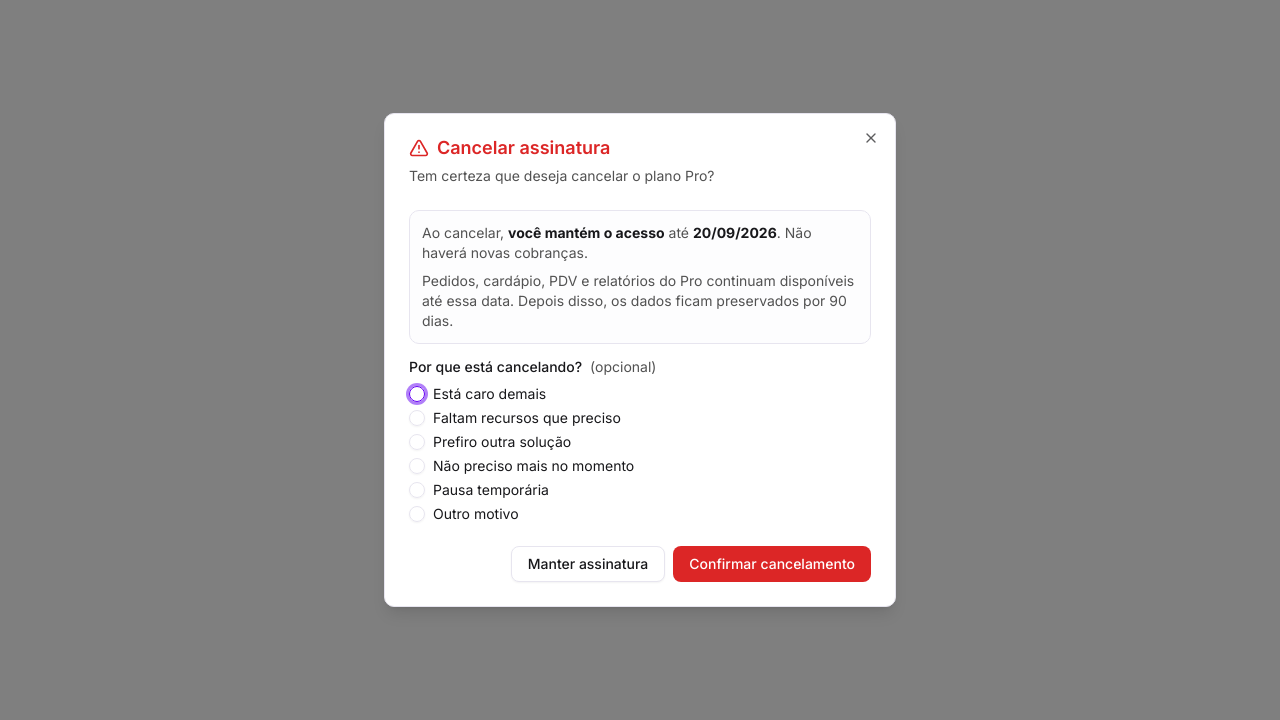
Test case: CancelDialog › confirma cancelamento, envia motivo opcional e mostra acesso até a data
Check: the text "Tem certeza que deseja cancelar o plano Pro?" is shown, box [409,167,714,184]
Check: the text "20/09/2026" is shown, box [693,224,777,241]
What coordinates should you click on to do the following:
click the radio button named "Está caro demais" next to "Está caro demais"
I would click on:
 (417, 394)
Its box is [409,386,425,402].
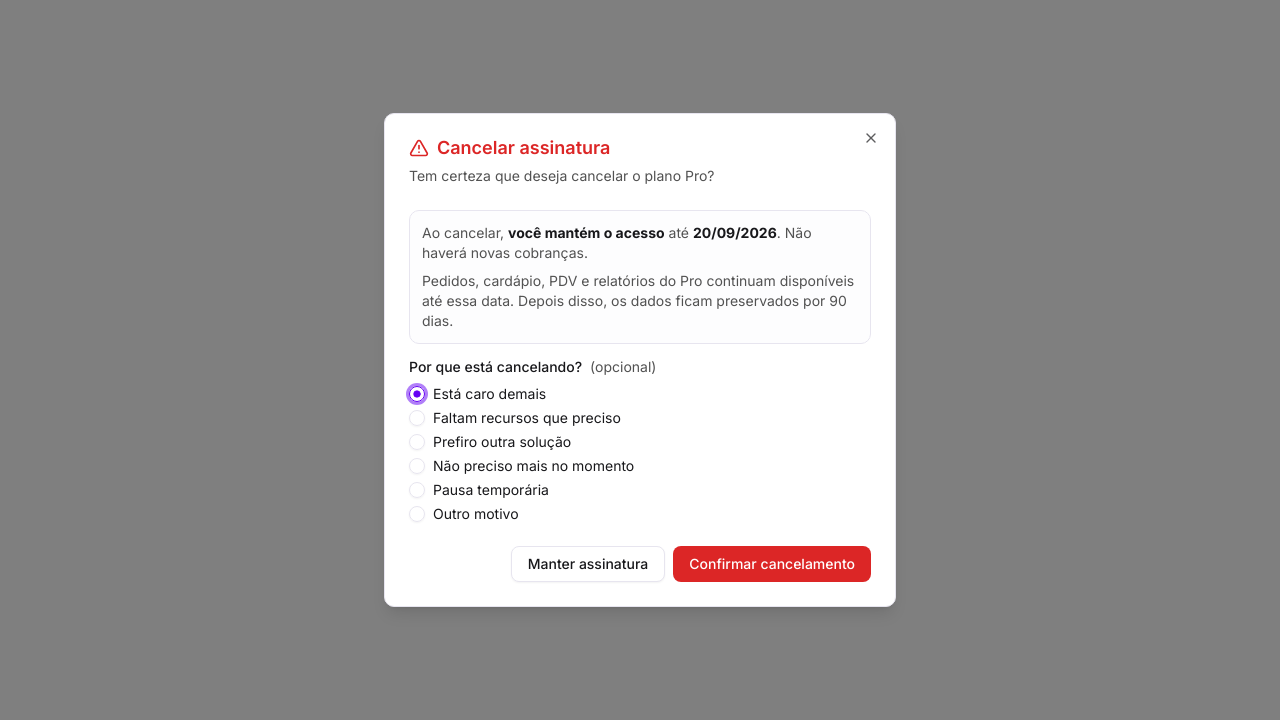
What coordinates should you click on to do the following:
click the button "Confirmar cancelamento"
I would click on:
 (772, 564)
Its box is [673,546,871,582].
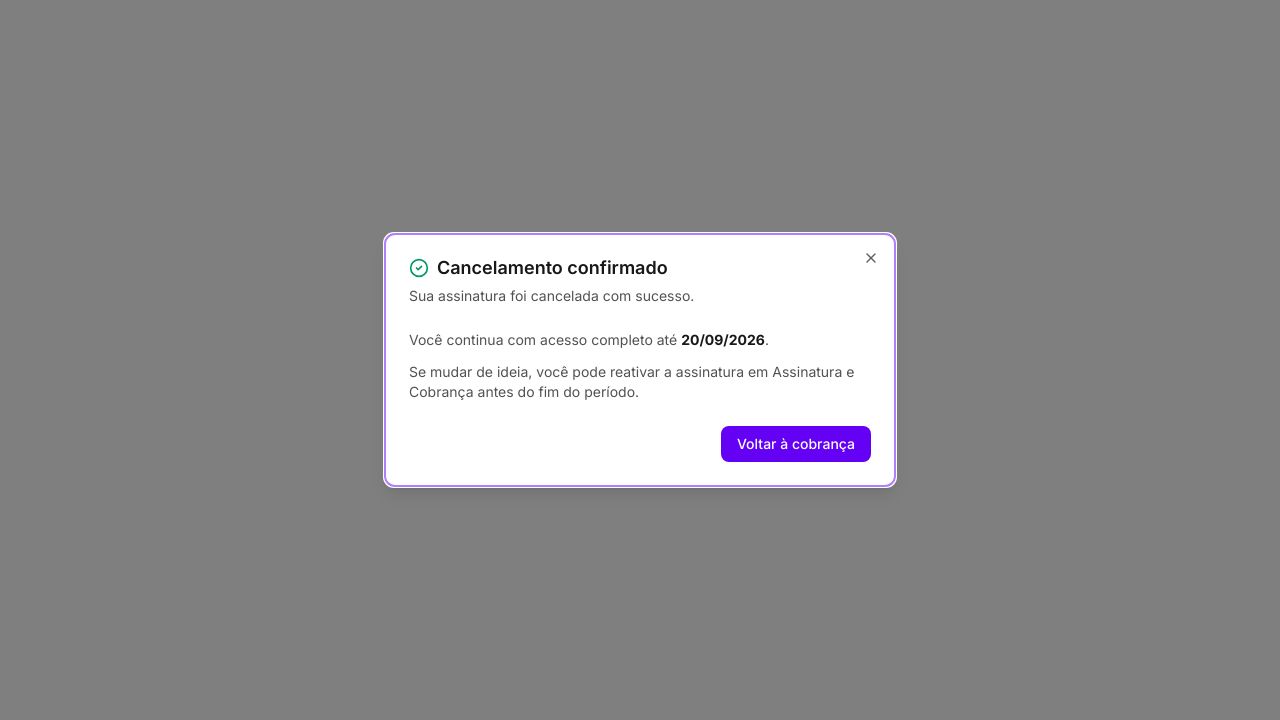
Check: the text "20/09/2026" is shown, box [681,331,765,348]
Check: the heading "Cancelamento confirmado" is shown, box [409,257,668,278]
